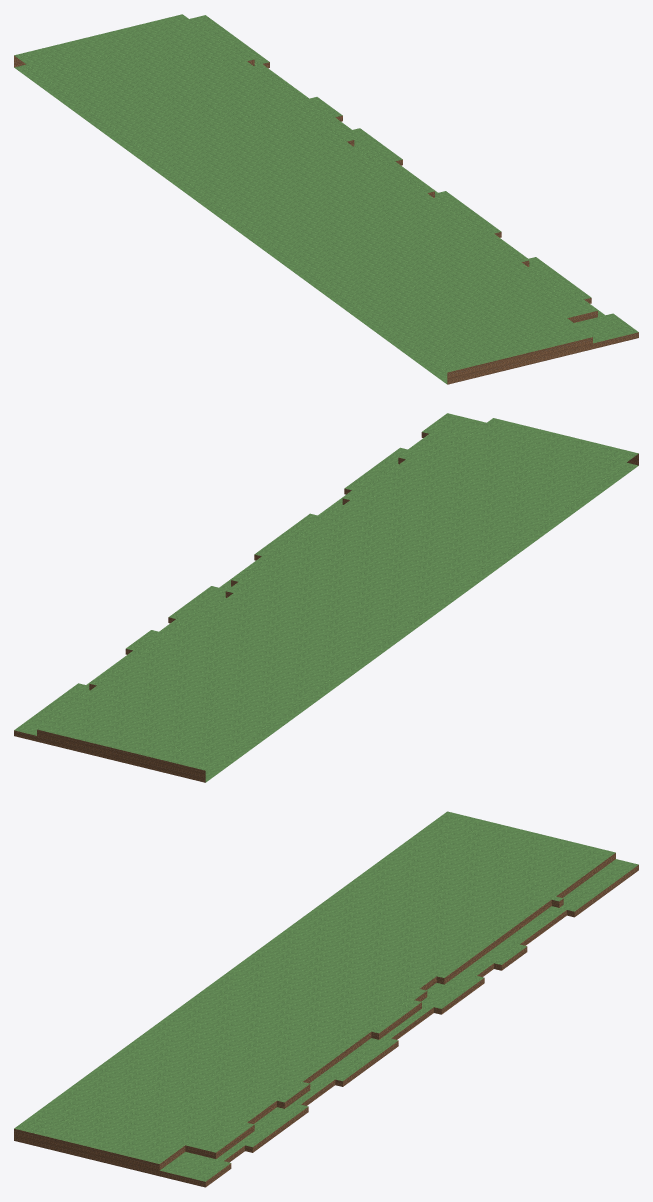
The model's file is GRASS1.fbx.
3 renders of one model, top to bottom at view 1: azimuth 30°, elevation 25°; view 2: azimuth 150°, elevation 25°; view 3: azimuth 330°, elevation 25°, orthographic.
Parts seen in each view (by area): view 1: Dirt.001; view 2: Dirt.001; view 3: Dirt.001.
Part boxes in pixels (box(x1,y1,x2,y2)): Dirt.001: box(14, 14, 638, 384); Dirt.001: box(14, 413, 638, 782); Dirt.001: box(14, 811, 638, 1187).
Size of the model in its own units: 304 by 18.49 by 1192.
